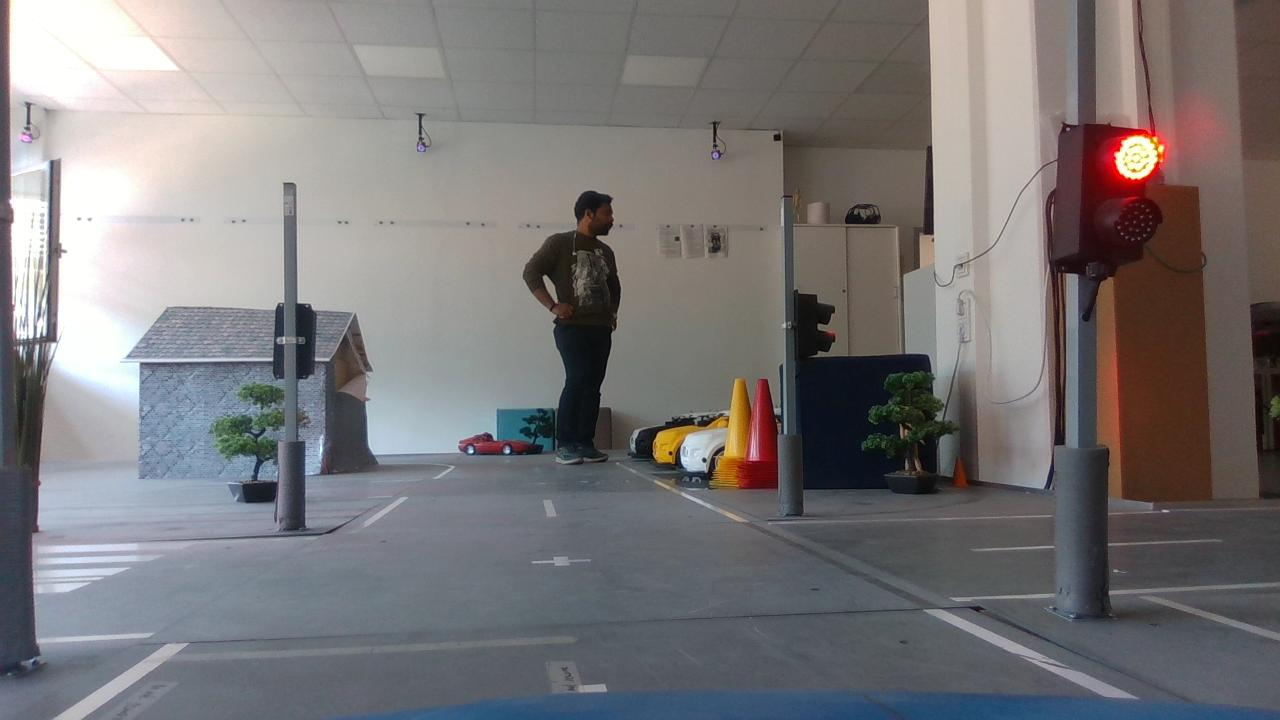traffic_light_red: (1013, 111, 1183, 288)
